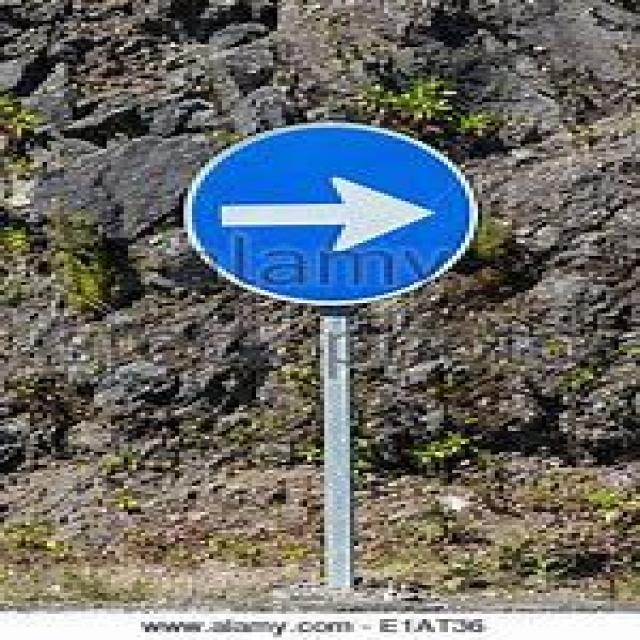COMPULSARY_TURN_RIGHT: (175, 120, 474, 303)
